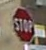stop: (10, 5, 35, 45)
